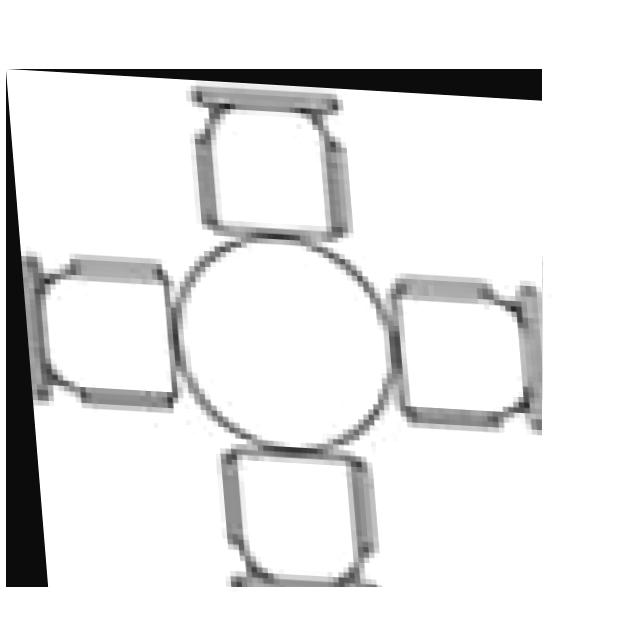table: (6, 69, 542, 587)
